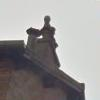Statue: (22, 9, 71, 65)
